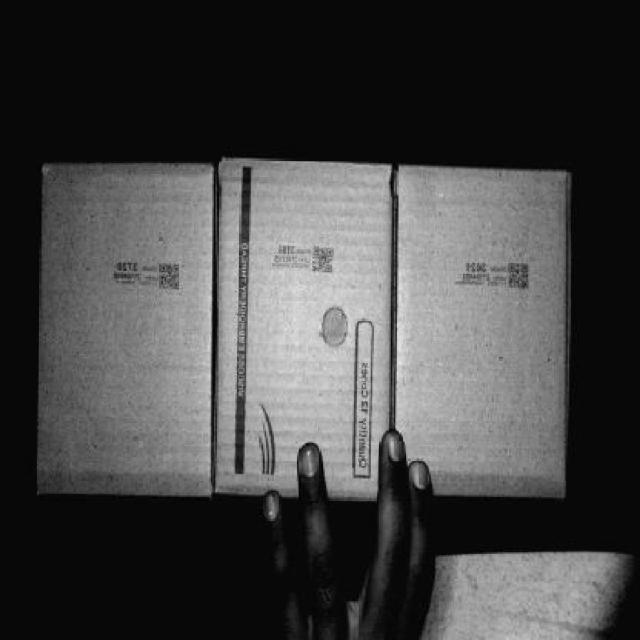cardboxes: (211, 168, 389, 495), (391, 170, 567, 492), (40, 163, 206, 495)
